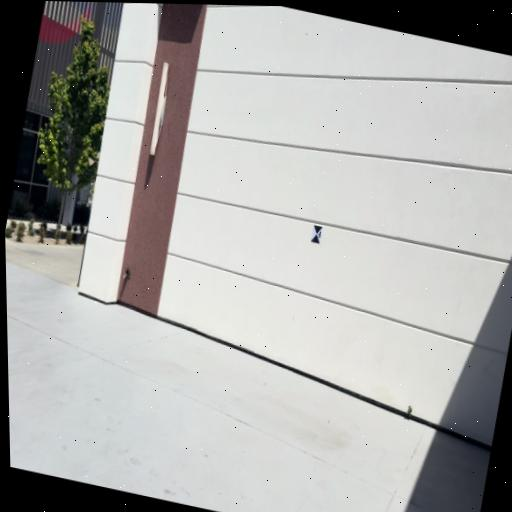target4: (311, 224, 324, 245)
